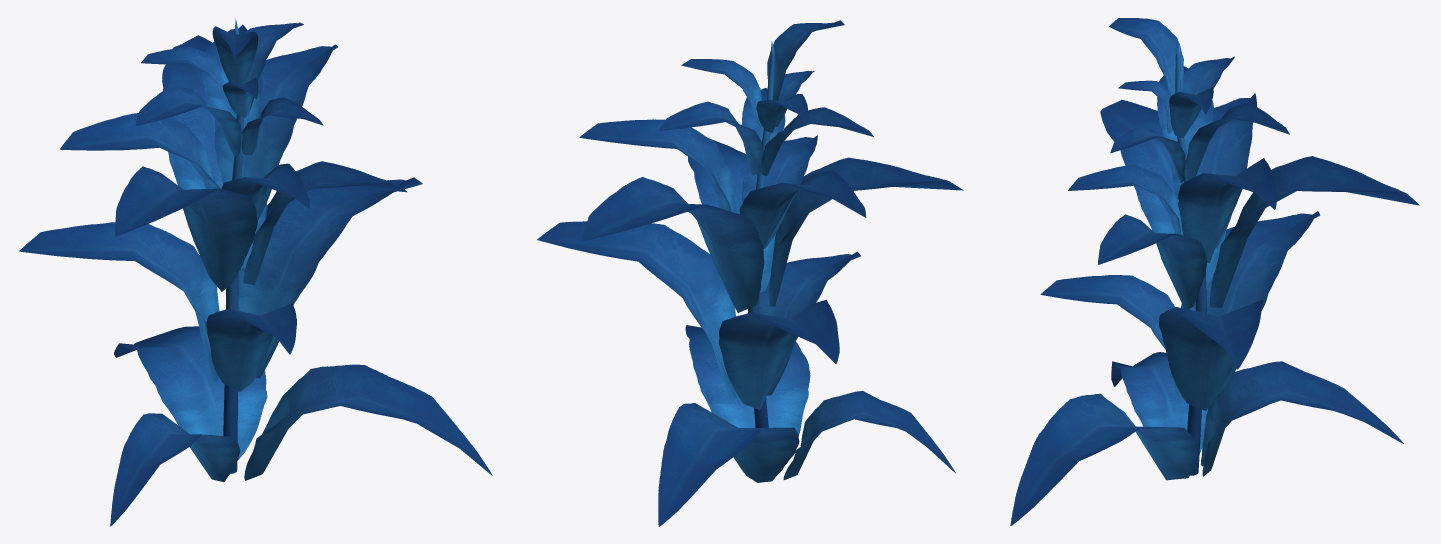
Rendered from nature_plant_2.glb.
The picture shows the model from 3 angles, left to right: view 1: azimuth 30°, elevation 25°; view 2: azimuth 150°, elevation 25°; view 3: azimuth 270°, elevation 25°; orthographic projection. The views are drawn at different scales.
Parts seen in each view (by area): view 1: nature_plant_2; view 2: nature_plant_2; view 3: nature_plant_2.
Boxes of the visible parts, left/top/right/bottom form: nature_plant_2: left=19, top=18, right=492, bottom=526; nature_plant_2: left=537, top=20, right=963, bottom=526; nature_plant_2: left=1010, top=18, right=1419, bottom=526.
Bounding box in the file's own units: 137 × 156 × 138.
1 material, 1 textured.
